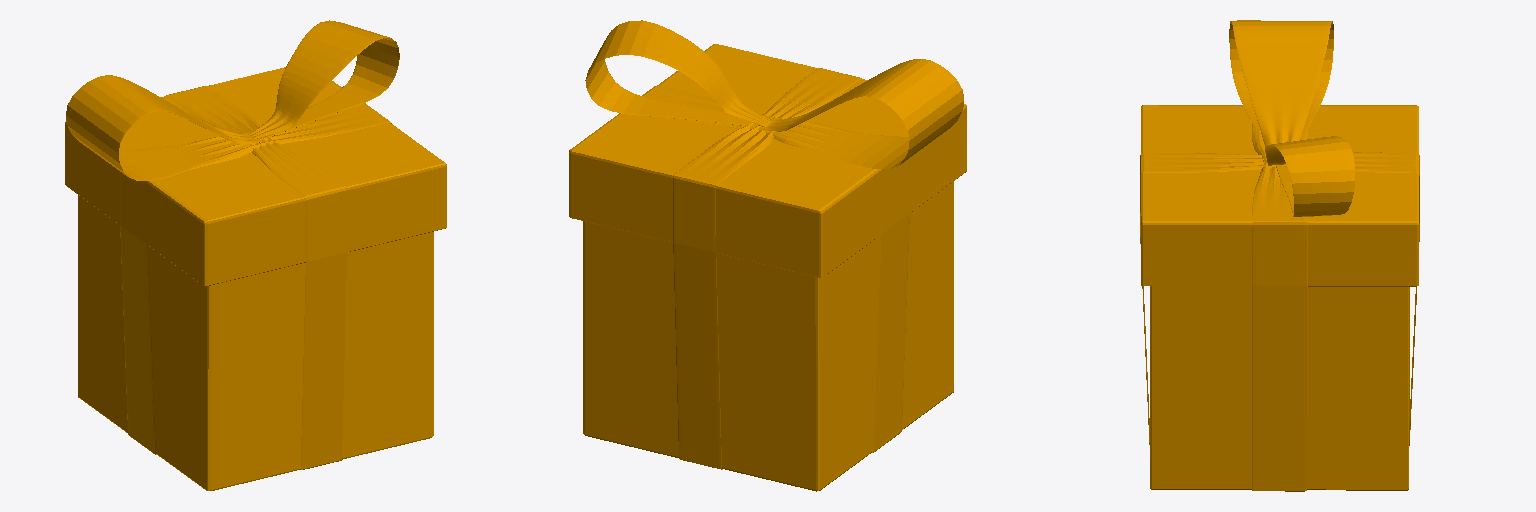
The robot description file, URDF, robot "none":
<robot name="none">
       <link name="none">
           <visual>
               <origin rpy="1.57 0 0" xyz="0 0 0" />
               <geometry>
                   <mesh filename="gift.obj" />
               </geometry>
           </visual>
          <collision>
              <geometry>
                  <box size="0.925022 1.000000 0.721057" />
              </geometry>
          </collision>

          <inertial>
            <mass value="0.0" />
            <inertia ixx="0.0" ixy="0.0" ixz="0.0" iyy="0.0" iyz="0.0" izz="0.0" />
          </inertial>
      </link>
  </robot>

--- What the picture shows (computed from the rendered views, not written in the file) ---
3 views of the same robot in one strip: view 1: azimuth 30°, elevation 25°; view 2: azimuth 150°, elevation 25°; view 3: azimuth 270°, elevation 25° (orthographic).
Model none with 1 links and 0 joints (none), rooted at none, posed every joint at zero.
Visible links, largest first — view 1: none; view 2: none; view 3: none.
Boxes of the visible links, x1=… form: none: x1=65, y1=20, x2=446, y2=490; none: x1=569, y1=20, x2=966, y2=491; none: x1=1140, y1=20, x2=1419, y2=491.
Size in the robot's own frame: 0.925 by 0.7212 by 1 metres.
Meshes: 1 distinct files referenced, 1 mesh visuals loaded (1 OBJ).